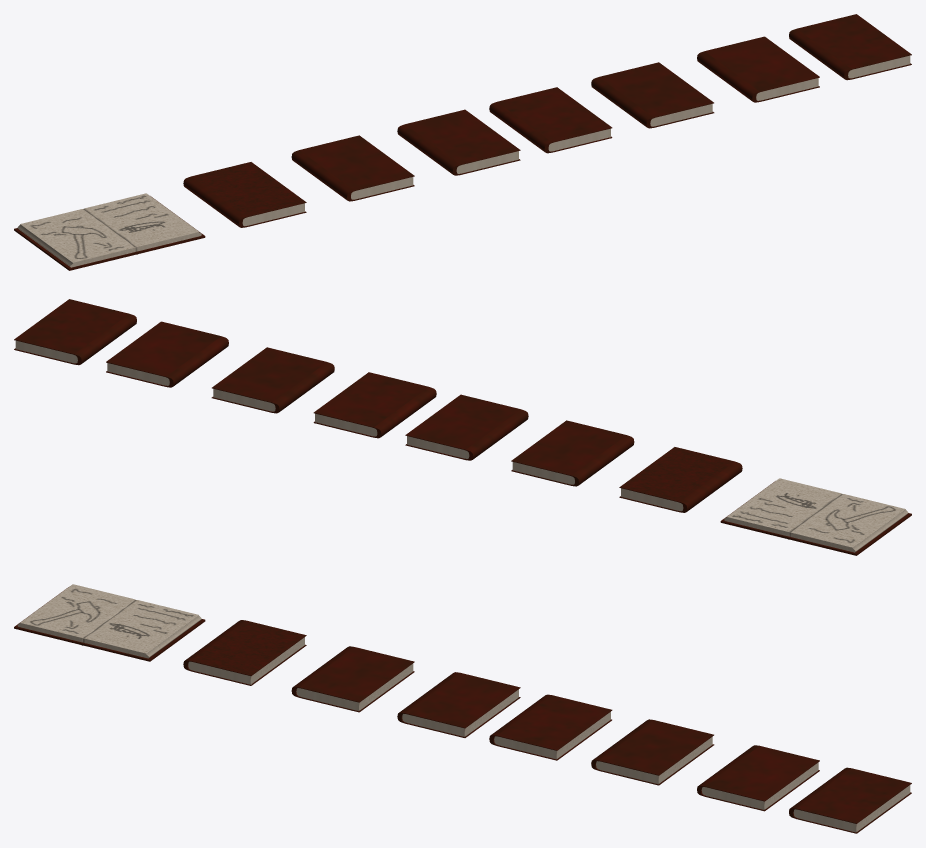
The model's file is book.fbx.
3 renders of one model, top to bottom at view 1: azimuth 30°, elevation 25°; view 2: azimuth 150°, elevation 25°; view 3: azimuth 330°, elevation 25°, orthographic.
Parts seen in each view (by area): view 1: BookOpened, BookClosed2, BookClosed5, BookClosed6, BookClosed4, BookClosed3, BookClosed7, BookClosed1; view 2: BookOpened, BookClosed2, BookClosed5, BookClosed6, BookClosed4, BookClosed3, BookClosed7, BookClosed1; view 3: BookOpened, BookClosed1, BookClosed2, BookClosed3, BookClosed4, BookClosed5, BookClosed6, BookClosed7.
Part boxes in pixels (bbox=[...]): BookOpened: bbox=[14, 193, 205, 270]; BookClosed2: bbox=[291, 135, 414, 201]; BookClosed5: bbox=[789, 14, 911, 80]; BookClosed6: bbox=[489, 87, 612, 153]; BookClosed4: bbox=[697, 36, 819, 102]; BookClosed3: bbox=[591, 62, 714, 128]; BookClosed7: bbox=[397, 109, 520, 175]; BookClosed1: bbox=[183, 162, 306, 227]; BookOpened: bbox=[720, 478, 911, 555]; BookClosed2: bbox=[511, 420, 634, 486]; BookClosed5: bbox=[14, 299, 136, 365]; BookClosed6: bbox=[313, 372, 436, 438]; BookClosed4: bbox=[106, 321, 228, 387]; BookClosed3: bbox=[211, 347, 334, 413]; BookClosed7: bbox=[405, 394, 528, 460]; BookClosed1: bbox=[619, 447, 742, 512]; BookOpened: bbox=[14, 584, 205, 661]; BookClosed1: bbox=[183, 620, 306, 685]; BookClosed2: bbox=[291, 646, 414, 712]; BookClosed3: bbox=[591, 719, 714, 785]; BookClosed4: bbox=[697, 745, 819, 811]; BookClosed5: bbox=[789, 767, 911, 833]; BookClosed6: bbox=[489, 694, 612, 760]; BookClosed7: bbox=[397, 672, 520, 737].
Size of the model in its own units: 4.4 by 0.0552 by 0.5.
